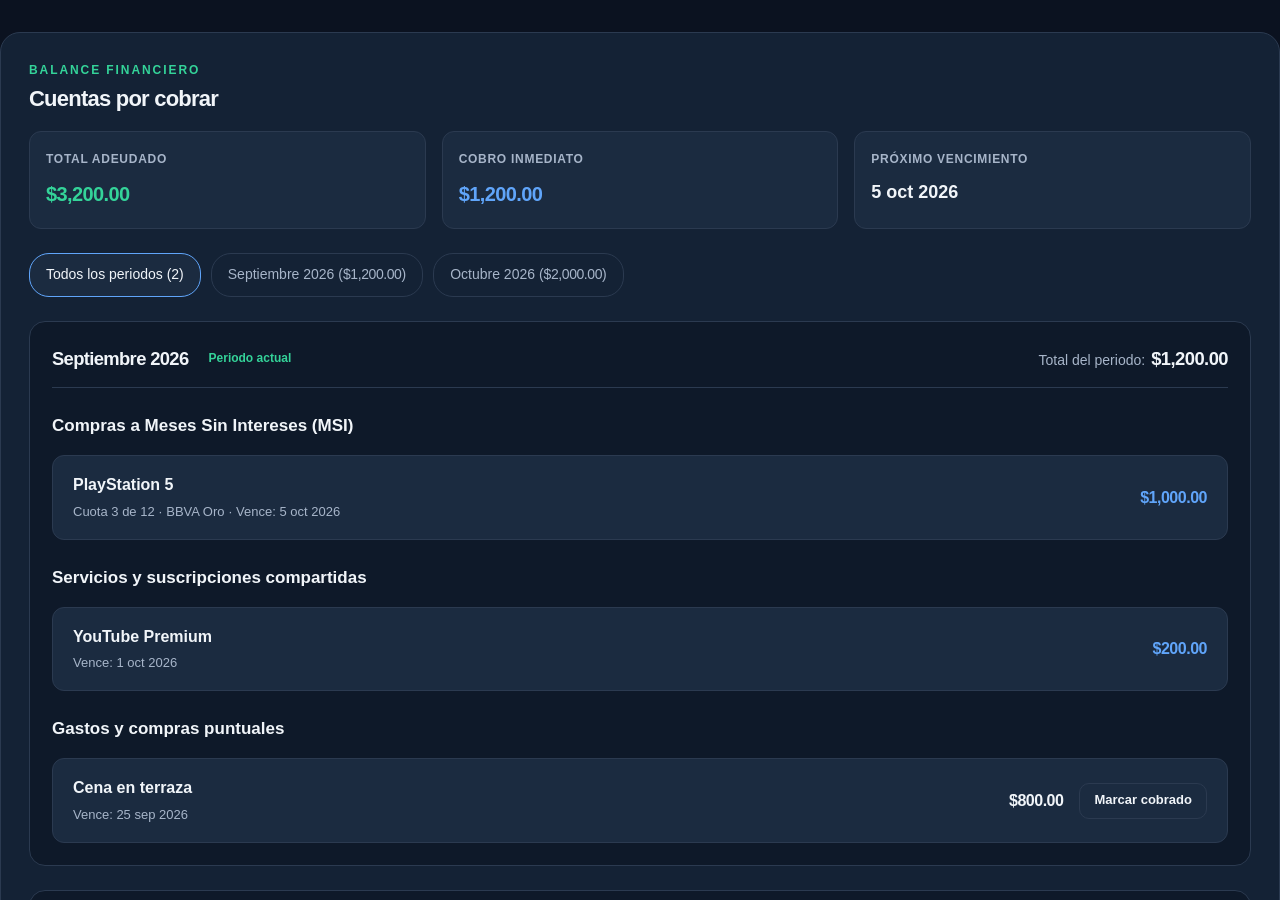
Test: DebtSummaryView › handles settle action on single expense
Click the button "Marcar cobrado" at (1143, 801), box [1080, 783, 1207, 819]
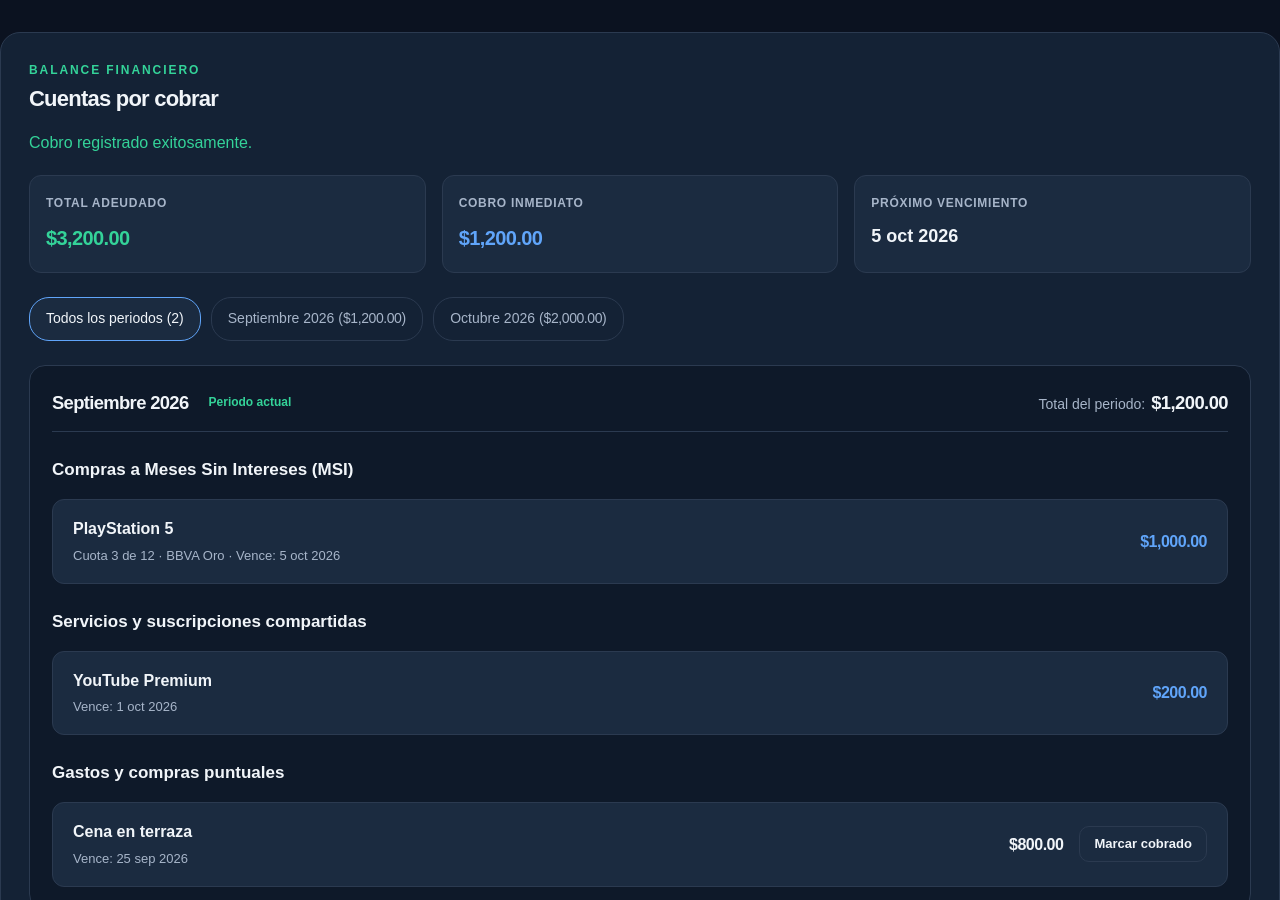
Result: the text "Cobro registrado exitosamente." is shown at [29, 134, 252, 151]
